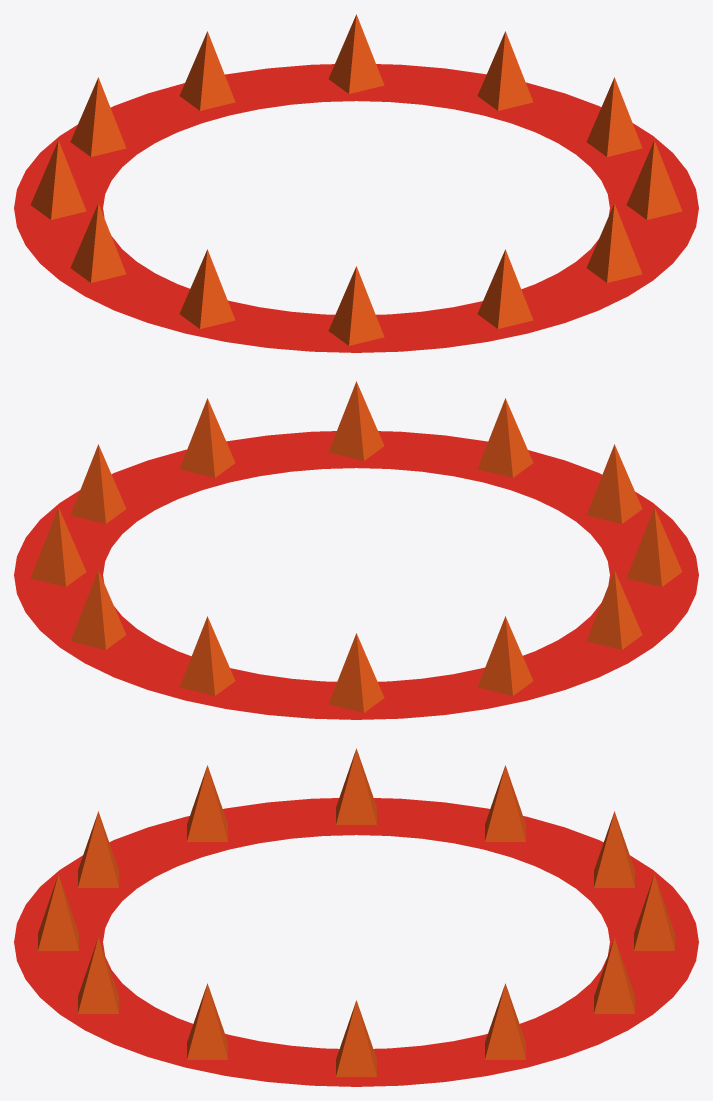
File: rage_ring.glb
3 renders of one model, top to bottom at view 1: azimuth 30°, elevation 25°; view 2: azimuth 150°, elevation 25°; view 3: azimuth 270°, elevation 25°, orthographic.
Visible parts, largest first — view 1: rage_ring; view 2: rage_ring; view 3: rage_ring.
Part boxes in pixels (x1=…): rage_ring: x1=14, y1=14, x2=698, y2=352; rage_ring: x1=14, y1=381, x2=698, y2=719; rage_ring: x1=14, y1=748, x2=698, y2=1086.
Bounding box in the file's own units: 2 × 0.22 × 2.
1 material, 1 textured.
